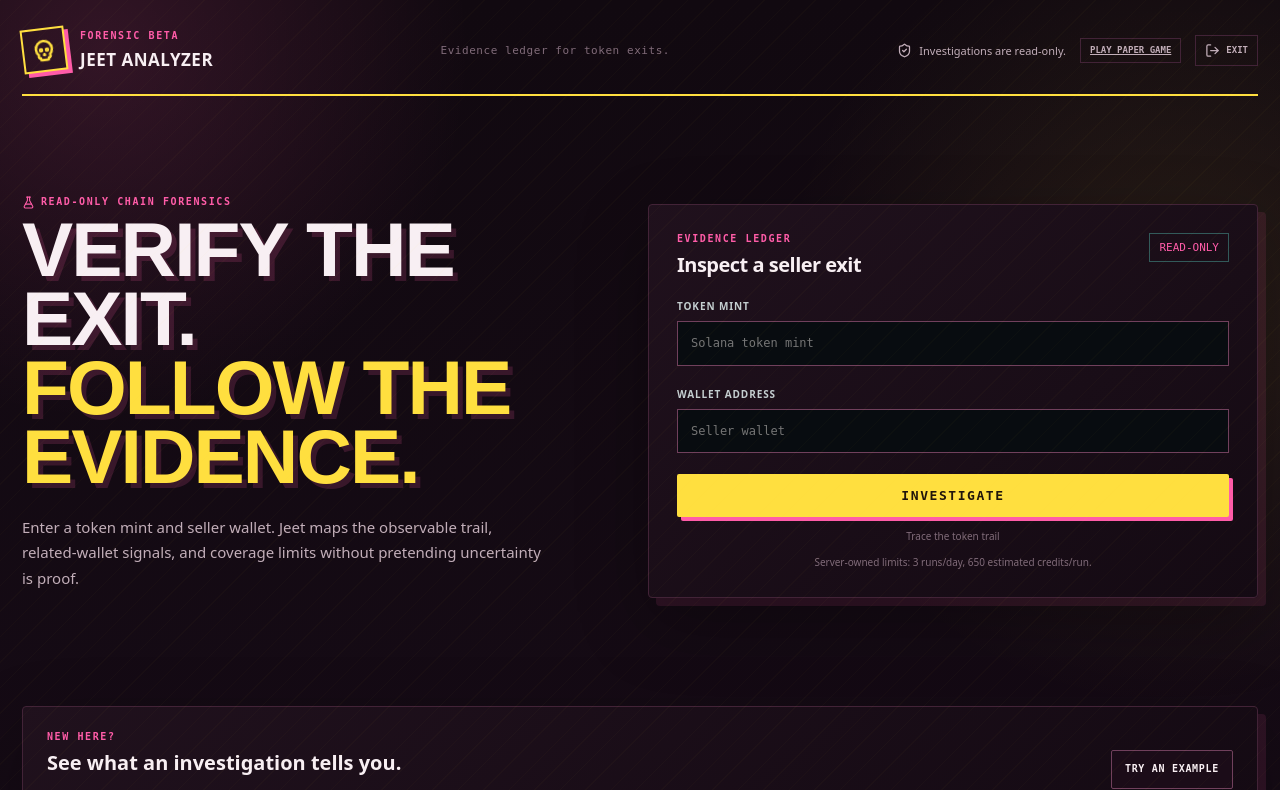
Test case: invite-only beta experience › shows safe provider failures without exposing a forensic conclusion
Type "11111111111111111111111111111111" into the field labelled "Token mint" at point(953, 343), box [677, 321, 1229, 366]
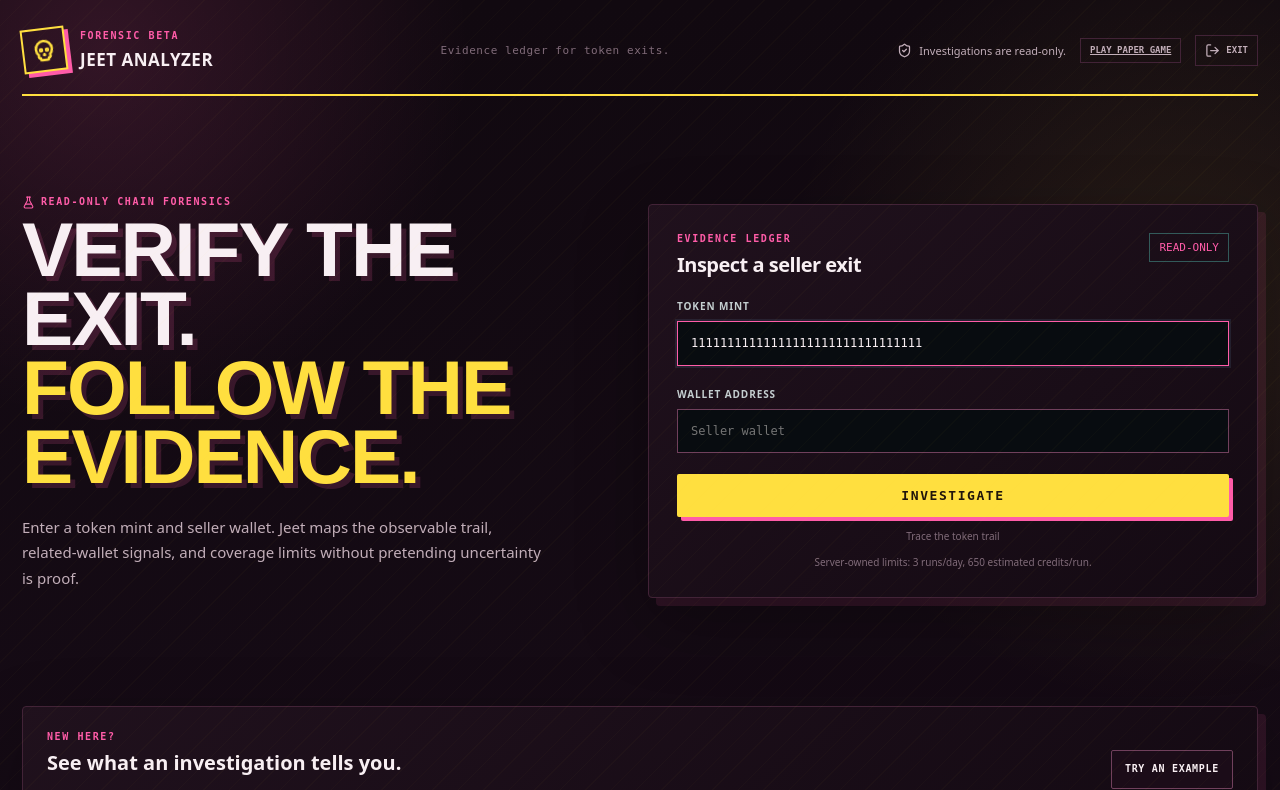
Type "4vJ9JU1bJJE96FWSJKvHsmmF5xmD3e3shZV4L6jH4b5" into the field labelled "Wallet address" at point(953, 431), box [677, 408, 1229, 453]
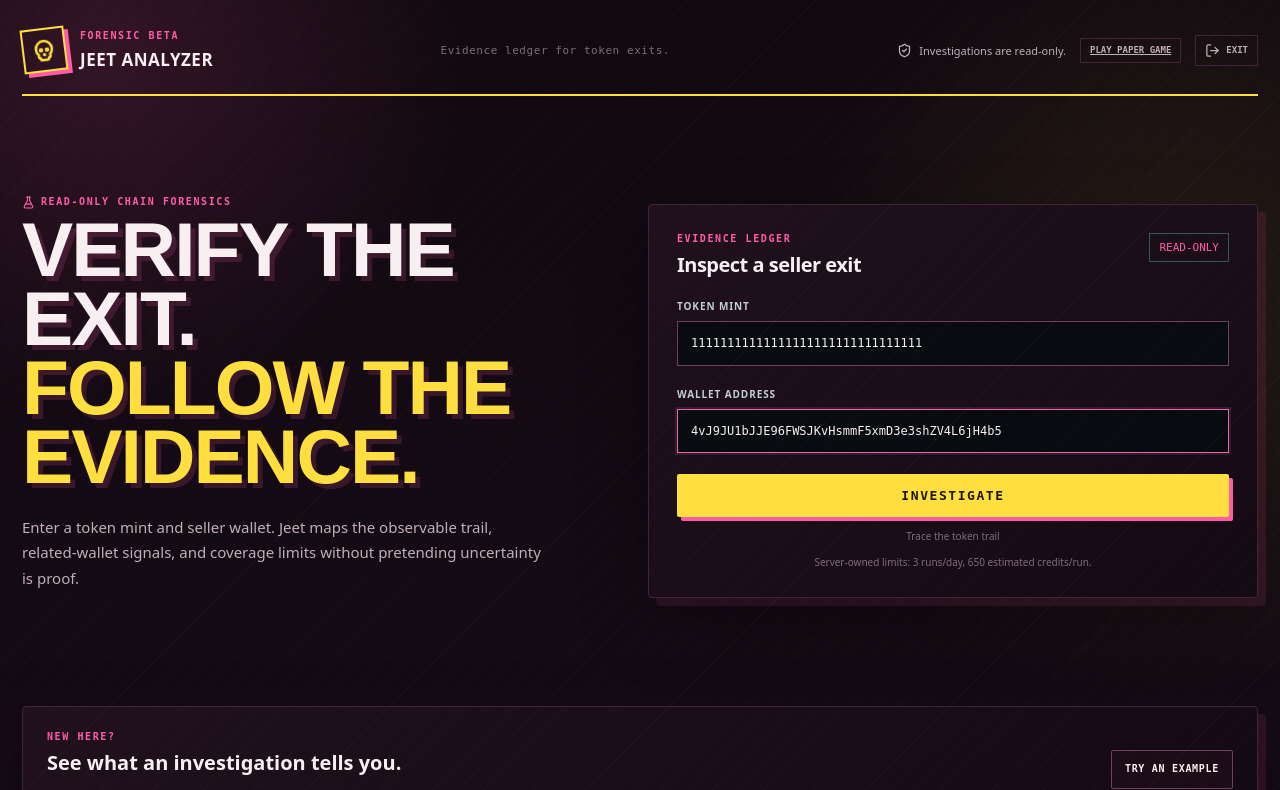
Click the button "INVESTIGATE" at point(953, 495), box [677, 474, 1229, 517]
(page scrolled)
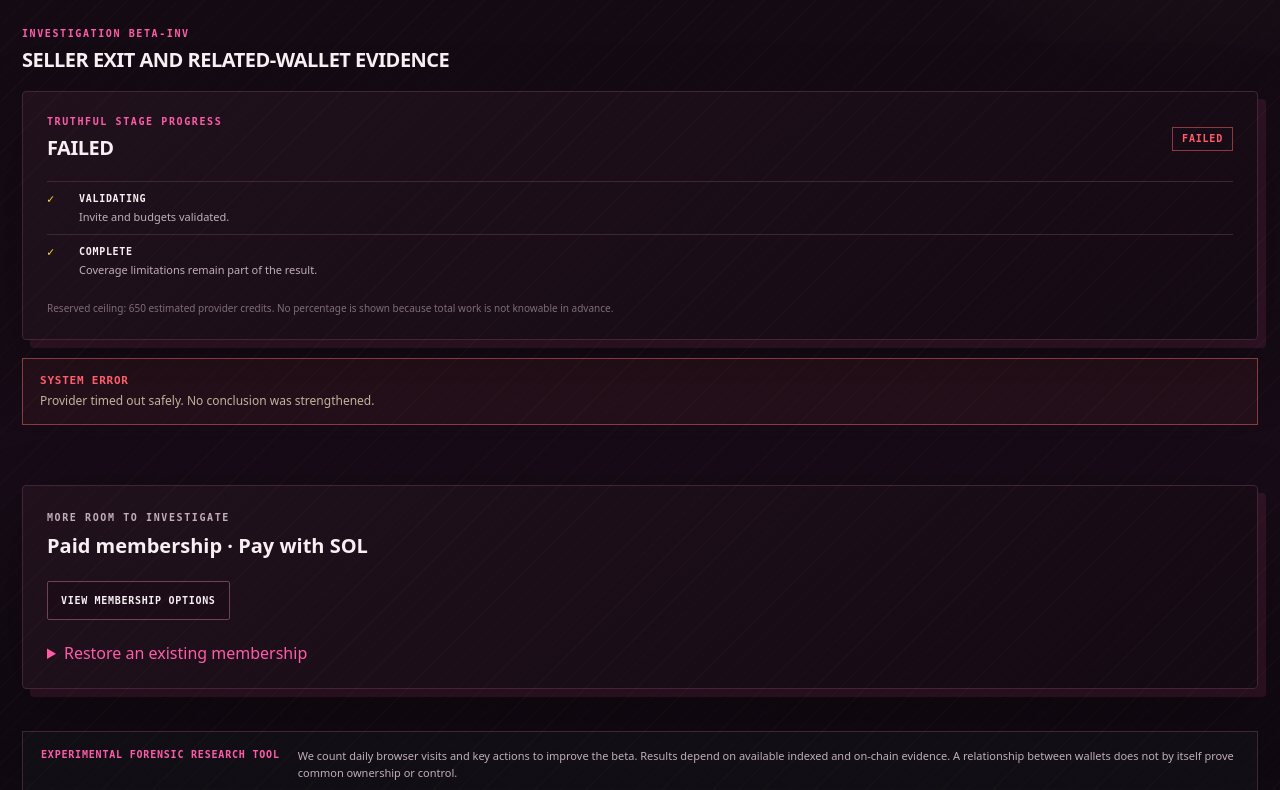
expect the text "SYSTEM ERROR" is shown: met, box [40, 374, 129, 388]
expect the text "Provider timed out safely. No conclusion was strengthened." is shown: met, box [40, 392, 374, 409]
